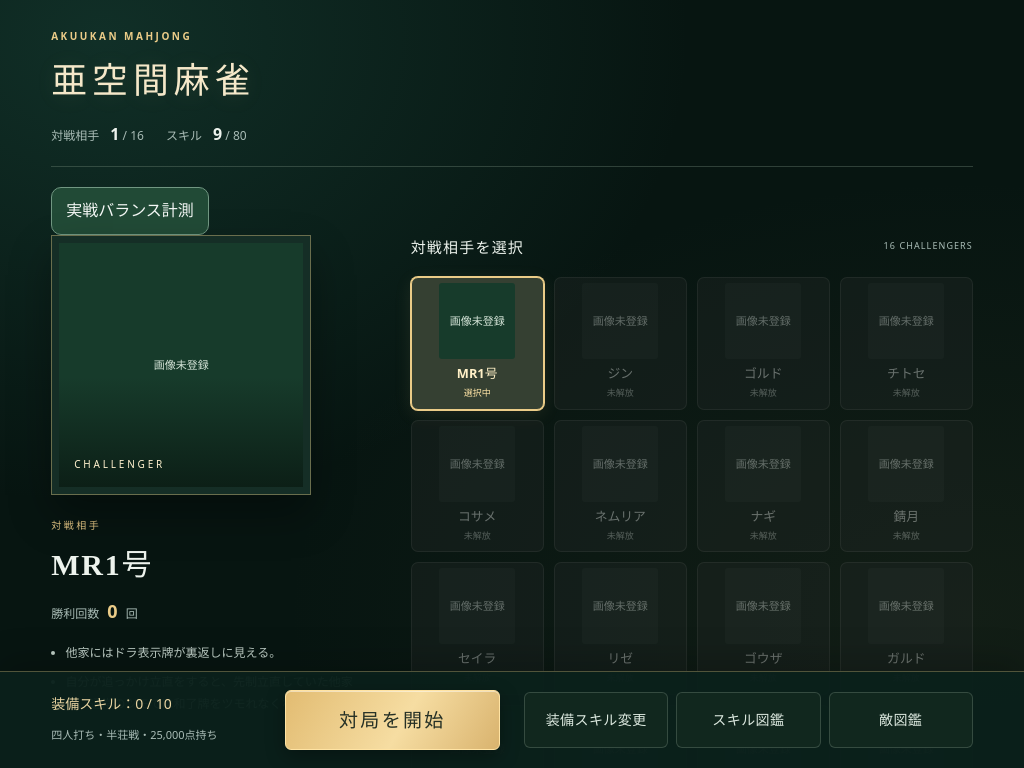
Test: 変更を破棄すると保存済み装備が維持される
Click the button "装備スキル変更" at [596, 720], box [524,692,668,748]
(page scrolled)
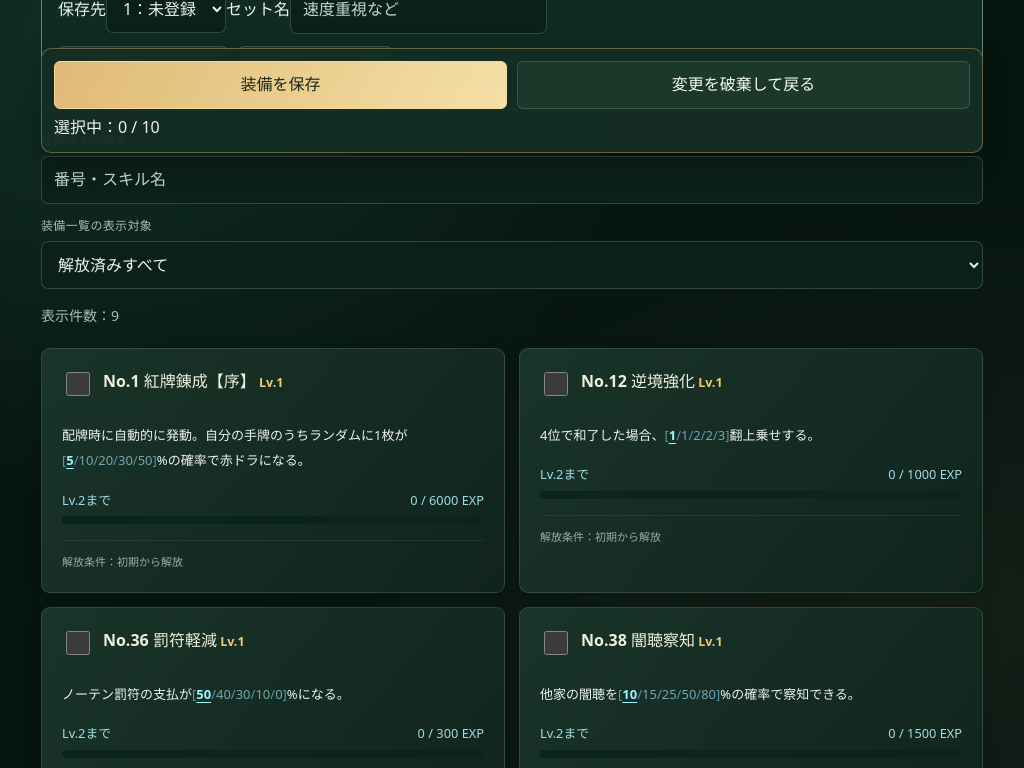
Click the checkbox labelled "No.1 紅牌錬成【序】 Lv.1" at [78, 384], box [66,372,90,396]
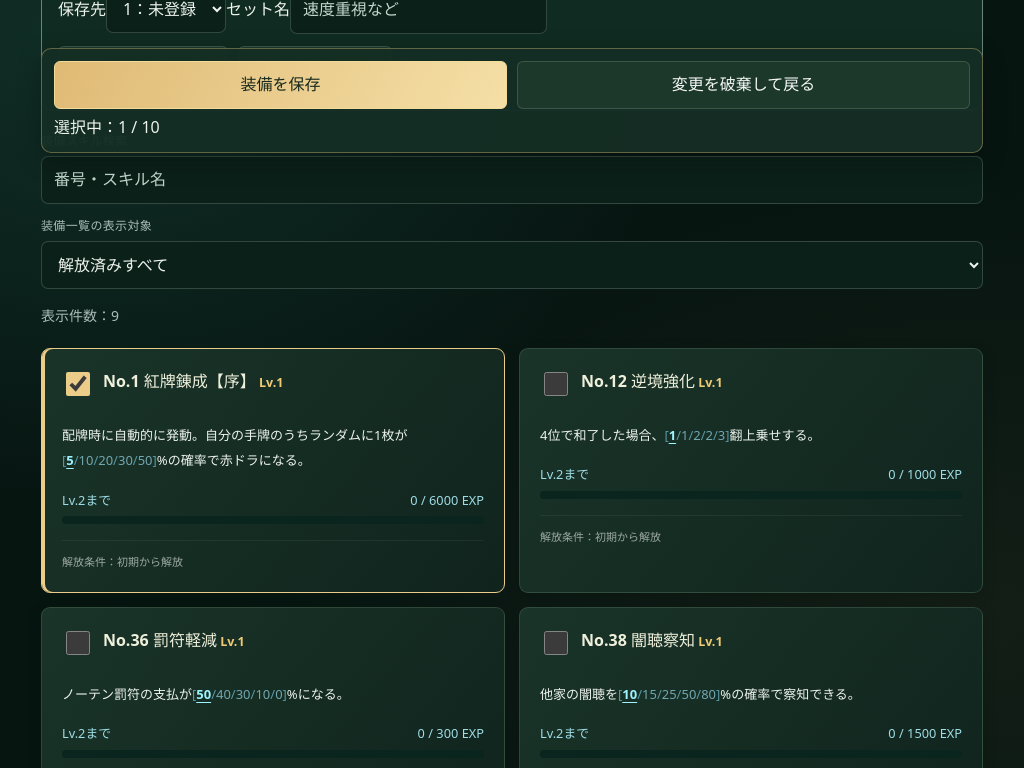
Click the button "変更を破棄して戻る" at [744, 85], box [517,61,970,109]
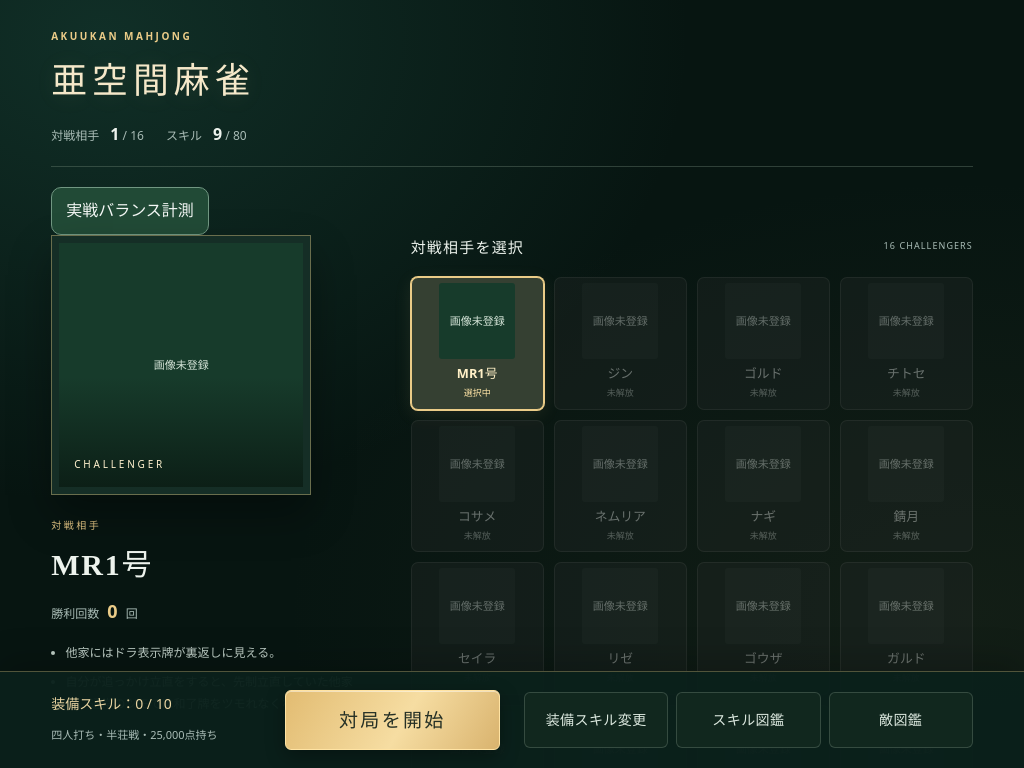
Click the button "装備スキル変更" at [596, 720], box [524,692,668,748]
(page scrolled)
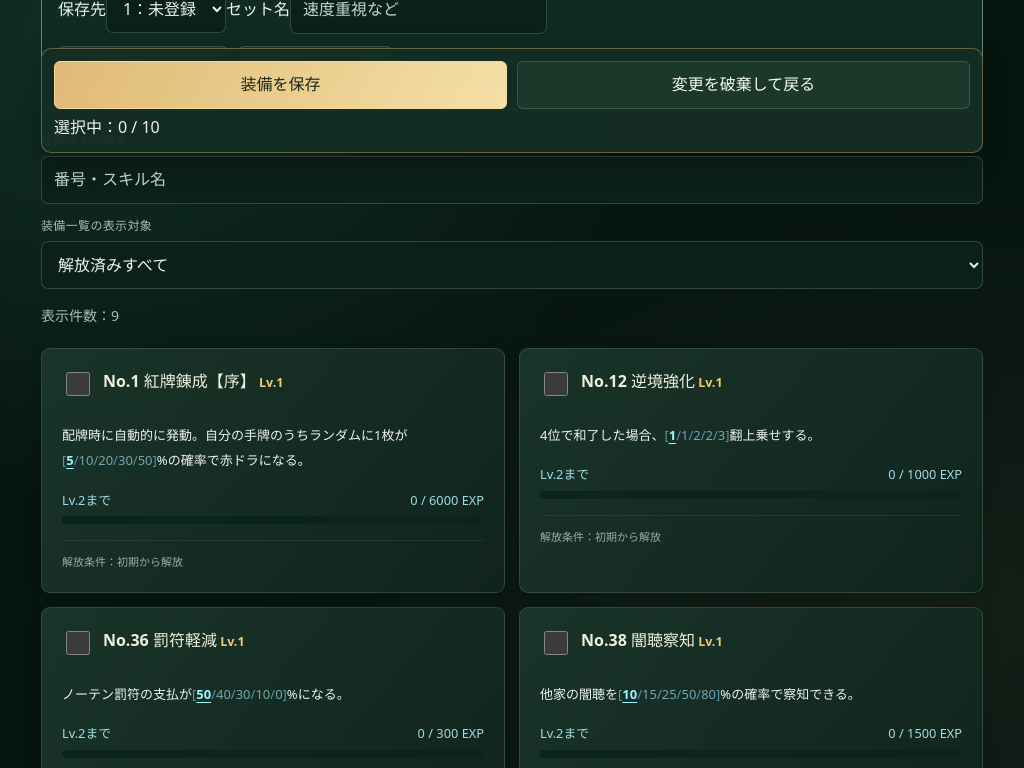
Expected: the checkbox labelled "No.1 紅牌錬成【序】 Lv.1" is not checked, [66,372,90,396]
